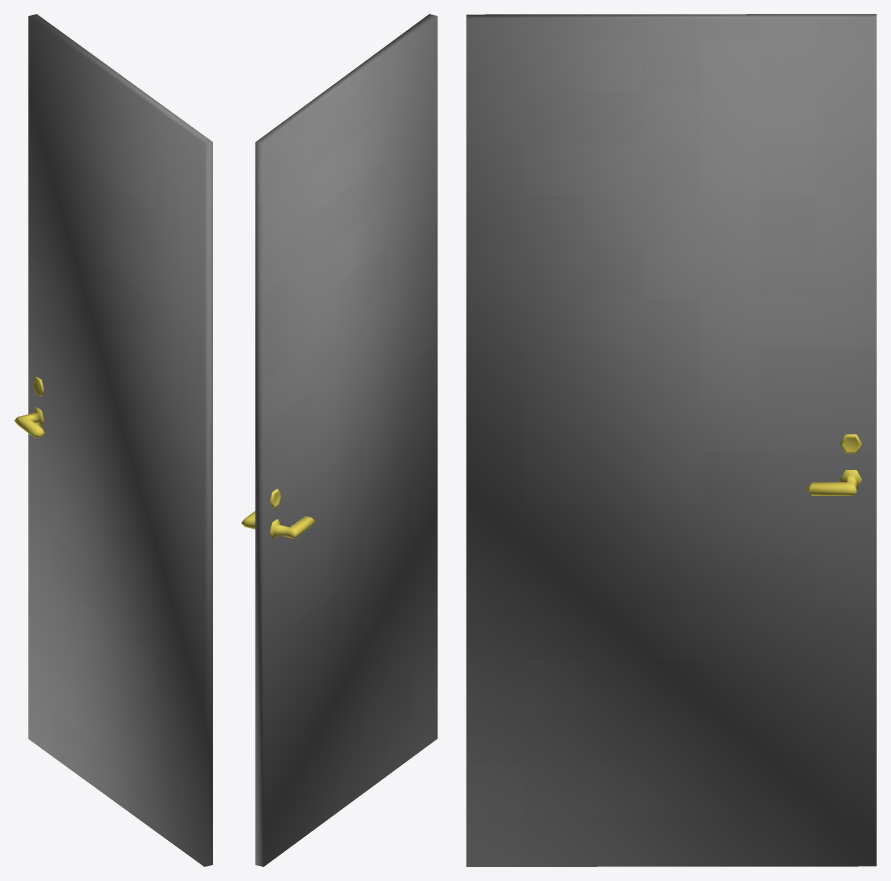
Rendered from SW_corridor__R_lobby_R_Aula_Ovi_031.FBX.
3 renders of one model, left to right at view 1: azimuth 30°, elevation 25°; view 2: azimuth 150°, elevation 25°; view 3: azimuth 270°, elevation 25°, orthographic. The views are drawn at different scales.
Parts seen in each view (by area): view 1: SW_corridor__R_lobby_R_Aula_Ovi_031; view 2: SW_corridor__R_lobby_R_Aula_Ovi_031; view 3: SW_corridor__R_lobby_R_Aula_Ovi_031.
Part boxes in pixels (x1,y1,x2,y2): SW_corridor__R_lobby_R_Aula_Ovi_031: [14, 14, 212, 866]; SW_corridor__R_lobby_R_Aula_Ovi_031: [241, 14, 437, 866]; SW_corridor__R_lobby_R_Aula_Ovi_031: [466, 14, 876, 866].
Bounding box in the file's own units: 15.99 × 90 × 205.
